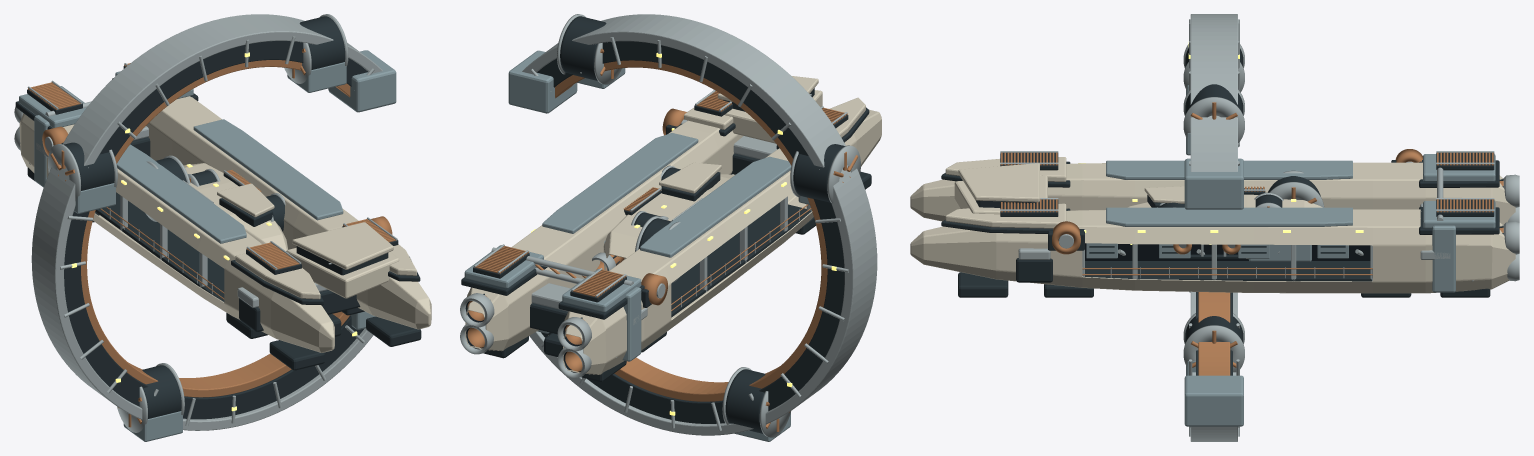
File: anchor-fleet.glb
3 views of the same model, side by side, from view 1: azimuth 30°, elevation 25°; view 2: azimuth 150°, elevation 25°; view 3: azimuth 270°, elevation 25° (orthographic).
Visible parts, largest first — view 1: loom_carrier__ceramic_warm_ivory, tension_spindle__titanium_formed_fittings, tension_spindle__graphite_structural_carbon, loom_carrier__graphite_structural_carbon, loom_carrier__ceramic_cool_service, tension_spindle__copper_heat_and_tension_hardware, tension_spindle__ceramic_cool_service, loom_carrier__copper_heat_and_tension_hardware, anchor_cutter__ceramic_warm_ivory, loom_carrier__titanium_formed_fittings, anchor_cutter__graphite_structural_carbon; view 2: tension_spindle__titanium_formed_fittings, loom_carrier__ceramic_warm_ivory, tension_spindle__graphite_structural_carbon, loom_carrier__ceramic_cool_service, loom_carrier__graphite_structural_carbon, loom_carrier__titanium_formed_fittings, tension_spindle__copper_heat_and_tension_hardware, loom_carrier__copper_heat_and_tension_hardware, anchor_cutter__ceramic_warm_ivory, tension_spindle__ceramic_cool_service, anchor_cutter__graphite_structural_carbon, anchor_cutter__titanium_formed_fittings; view 3: loom_carrier__ceramic_warm_ivory, loom_carrier__graphite_structural_carbon, loom_carrier__ceramic_cool_service, tension_spindle__titanium_formed_fittings, tension_spindle__ceramic_cool_service, loom_carrier__titanium_formed_fittings, loom_carrier__copper_heat_and_tension_hardware, tension_spindle__copper_heat_and_tension_hardware, loom_carrier__interior_deep_graphite, tension_spindle__graphite_structural_carbon, anchor_cutter__ceramic_warm_ivory, anchor_cutter__ceramic_cool_service (+1 smaller).
Boxes of the visible parts, bbox=[...] form: loom_carrier__ceramic_warm_ivory: bbox=[19, 96, 431, 352]; tension_spindle__titanium_formed_fittings: bbox=[31, 14, 382, 432]; tension_spindle__graphite_structural_carbon: bbox=[64, 16, 367, 419]; loom_carrier__graphite_structural_carbon: bbox=[15, 66, 421, 370]; loom_carrier__ceramic_cool_service: bbox=[19, 71, 343, 243]; tension_spindle__copper_heat_and_tension_hardware: bbox=[50, 48, 350, 427]; tension_spindle__ceramic_cool_service: bbox=[74, 50, 396, 441]; loom_carrier__copper_heat_and_tension_hardware: bbox=[28, 63, 395, 299]; anchor_cutter__ceramic_warm_ivory: bbox=[183, 163, 287, 250]; loom_carrier__titanium_formed_fittings: bbox=[14, 63, 397, 307]; anchor_cutter__graphite_structural_carbon: bbox=[192, 170, 272, 226]; tension_spindle__titanium_formed_fittings: bbox=[522, 14, 877, 437]; loom_carrier__ceramic_warm_ivory: bbox=[465, 76, 881, 374]; tension_spindle__graphite_structural_carbon: bbox=[537, 16, 844, 433]; loom_carrier__ceramic_cool_service: bbox=[464, 133, 791, 361]; loom_carrier__graphite_structural_carbon: bbox=[461, 88, 871, 381]; loom_carrier__titanium_formed_fittings: bbox=[460, 90, 847, 378]; tension_spindle__copper_heat_and_tension_hardware: bbox=[555, 48, 858, 431]; loom_carrier__copper_heat_and_tension_hardware: bbox=[467, 91, 847, 371]; anchor_cutter__ceramic_warm_ivory: bbox=[603, 162, 735, 270]; tension_spindle__ceramic_cool_service: bbox=[508, 50, 809, 441]; anchor_cutter__graphite_structural_carbon: bbox=[612, 172, 720, 265]; anchor_cutter__titanium_formed_fittings: bbox=[592, 187, 702, 270]; loom_carrier__ceramic_warm_ivory: bbox=[910, 157, 1515, 293]; loom_carrier__graphite_structural_carbon: bbox=[941, 153, 1503, 297]; loom_carrier__ceramic_cool_service: bbox=[1086, 154, 1495, 292]; tension_spindle__titanium_formed_fittings: bbox=[1183, 14, 1244, 441]; tension_spindle__ceramic_cool_service: bbox=[1184, 85, 1243, 426]; loom_carrier__titanium_formed_fittings: bbox=[1000, 151, 1519, 281]; loom_carrier__copper_heat_and_tension_hardware: bbox=[1001, 149, 1503, 275]; tension_spindle__copper_heat_and_tension_hardware: bbox=[1190, 102, 1237, 375]; loom_carrier__interior_deep_graphite: bbox=[1085, 243, 1370, 260]; tension_spindle__graphite_structural_carbon: bbox=[1185, 48, 1243, 375]; anchor_cutter__ceramic_warm_ivory: bbox=[1127, 186, 1322, 258]; anchor_cutter__ceramic_cool_service: bbox=[1248, 244, 1311, 261].
Bounding box in the file's own units: 295 × 324 × 461.
